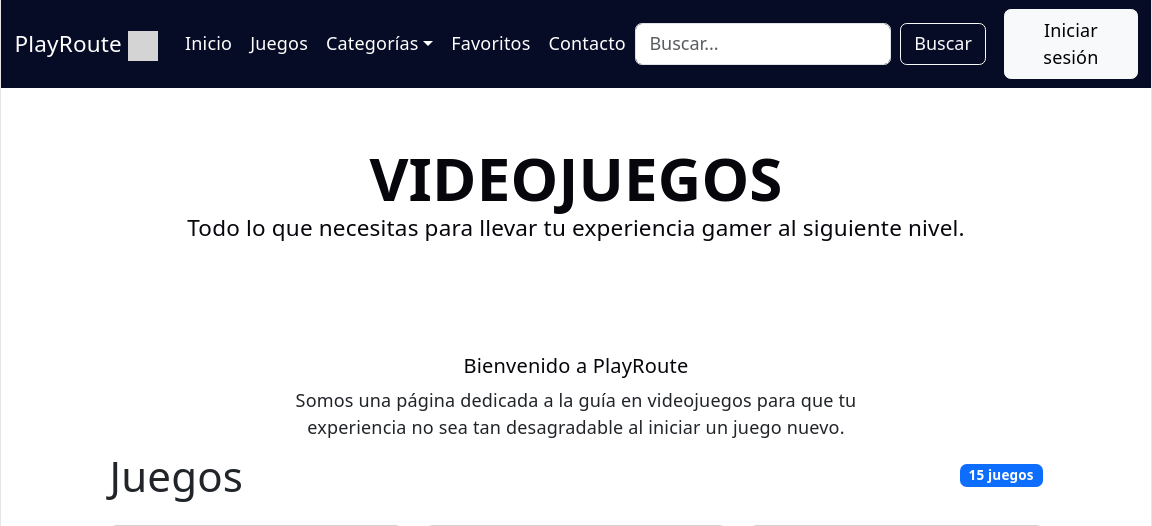
Scenario: PlayRoute integrado › filtra desde el buscador
Step 1. Type "minecraft" into the search field → (763, 44), box [635,22,891,65]
Then press Enter
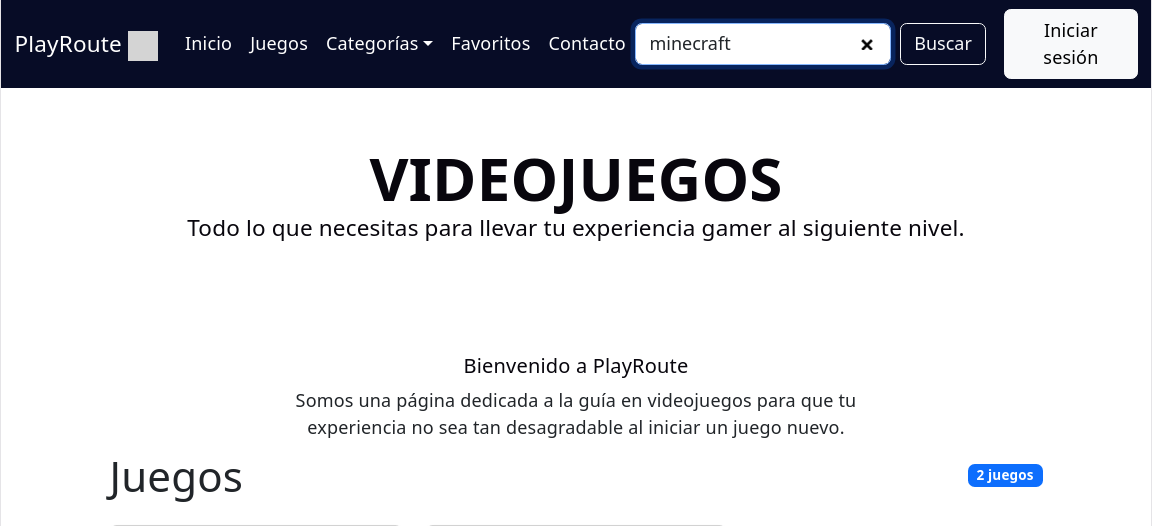
Expected: the text "2 juegos" is shown, [968,464,1042,487]
